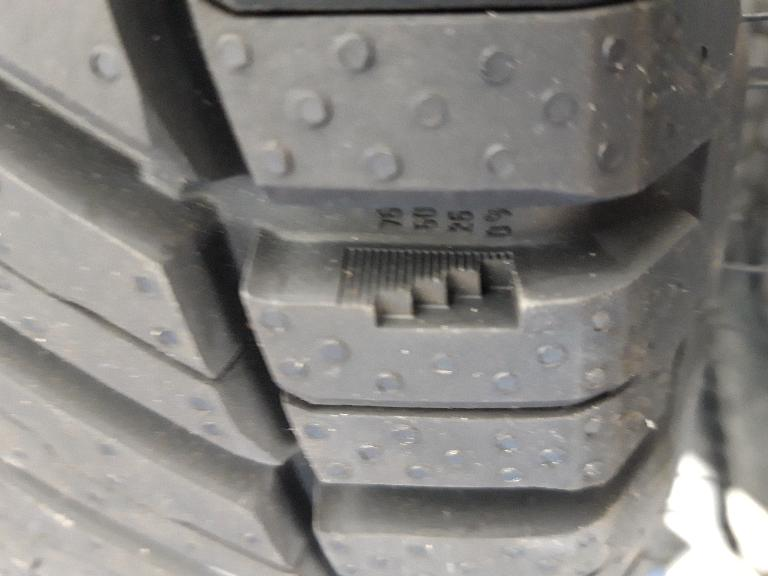temoin:100: (329, 239, 537, 346)
